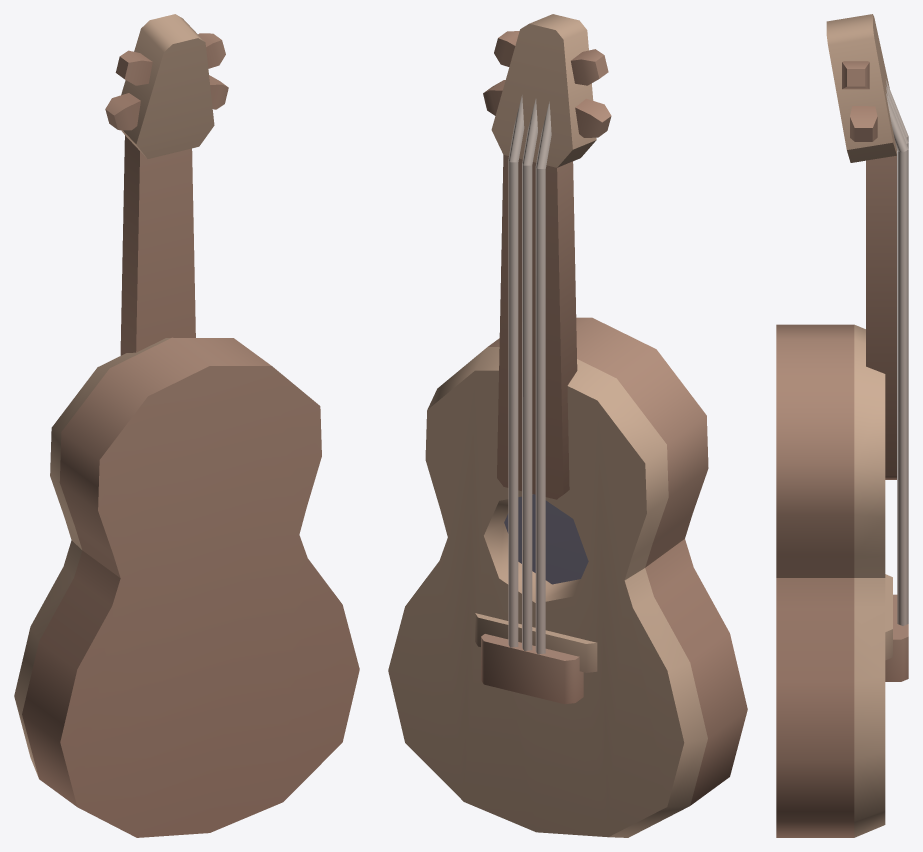
Rendered from instrument-guitar-acoustic.glb.
3 views of the same model, side by side, from view 1: azimuth 30°, elevation 25°; view 2: azimuth 150°, elevation 25°; view 3: azimuth 270°, elevation 25° (orthographic). The views are drawn at different scales.
Parts seen in each view (by area): view 1: instrument-guitar-acoustic; view 2: instrument-guitar-acoustic; view 3: instrument-guitar-acoustic.
Boxes of the visible parts, bbox=[...] form: instrument-guitar-acoustic: bbox=[14, 14, 359, 837]; instrument-guitar-acoustic: bbox=[388, 14, 747, 837]; instrument-guitar-acoustic: bbox=[776, 14, 908, 837].
Size of the model in its own units: 0.4519 by 1.13 by 0.17.
